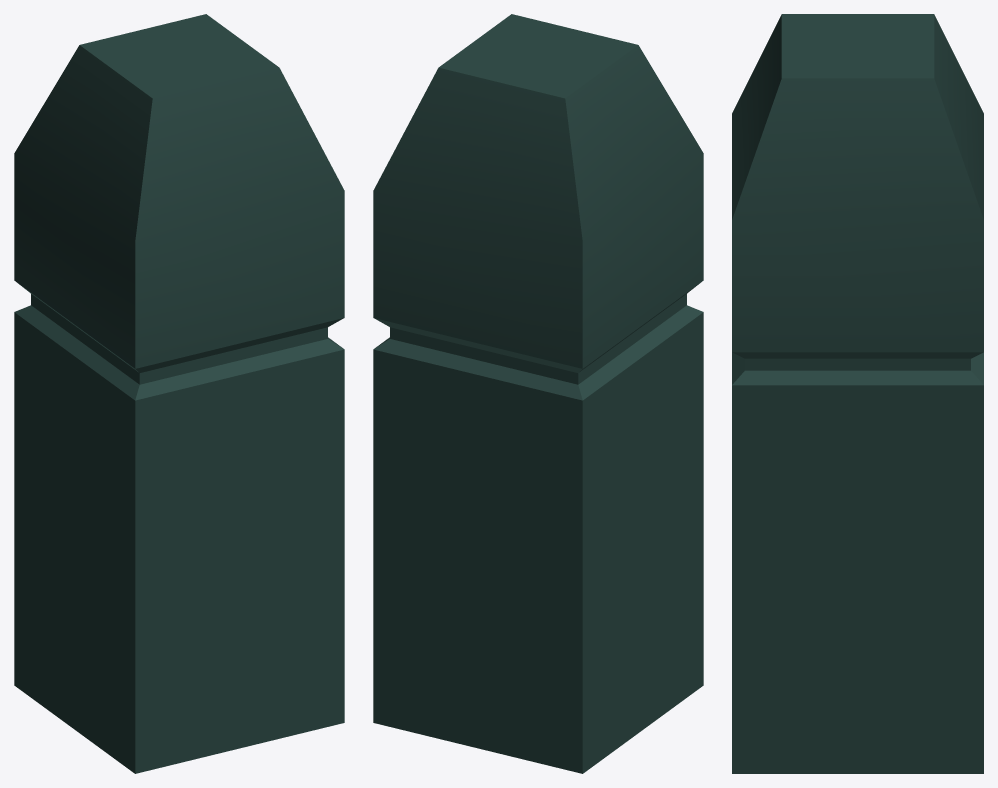
The model's file is gebouw3.fbx.
3 views of the same model, side by side, from view 1: azimuth 30°, elevation 25°; view 2: azimuth 150°, elevation 25°; view 3: azimuth 270°, elevation 25° (orthographic). The views are drawn at different scales.
Visible parts, largest first — view 1: polySurface28; view 2: polySurface28; view 3: polySurface28.
Boxes of the visible parts, box(x1,y1,x2,y2) form: polySurface28: box(14, 14, 344, 773); polySurface28: box(373, 14, 703, 773); polySurface28: box(732, 14, 983, 773).
Size of the model in its own units: 4.75 by 14.04 by 4.75.
